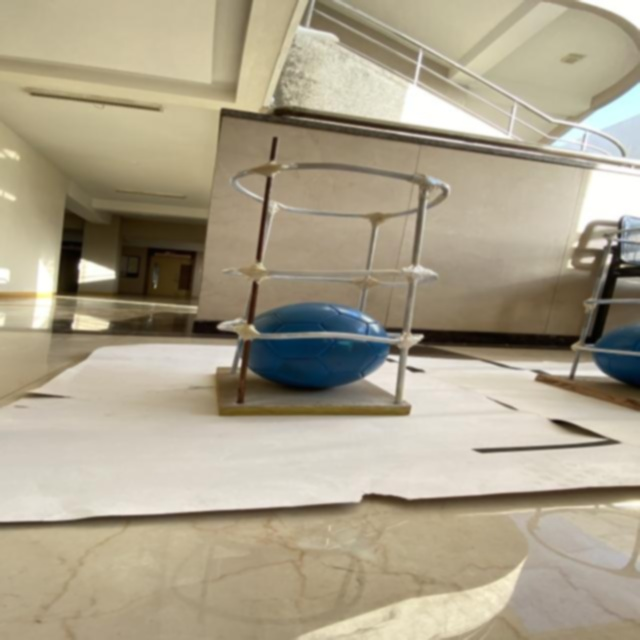blue_ball: (226, 297, 402, 397)
silo: (206, 154, 479, 437)
